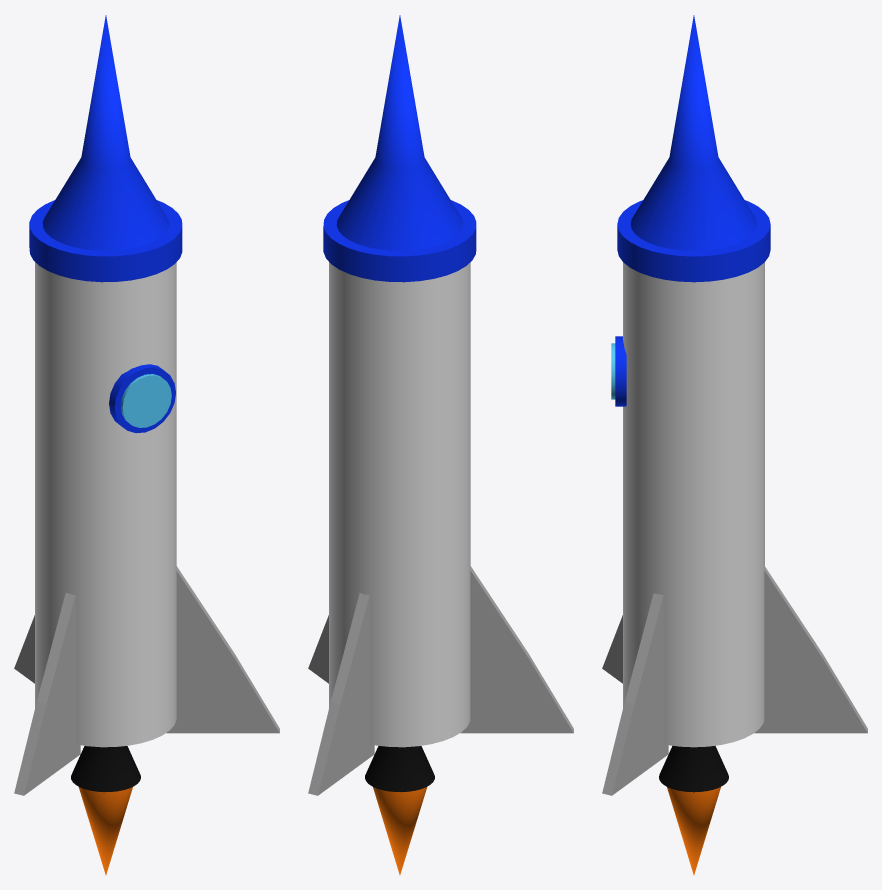
File: Rocket_06_TallNeedle.obj
The picture shows the model from 3 angles, left to right: view 1: azimuth 30°, elevation 25°; view 2: azimuth 150°, elevation 25°; view 3: azimuth 270°, elevation 25°; orthographic projection.
Parts seen in each view (by area): view 1: R06_Body, R06_Nose, R06_Fin_3, R06_Fin_2, R06_Collar, R06_Nozzle_1, R06_Flame_1, R06_Window_1, R06_WindowFrame_1, R06_Fin_1; view 2: R06_Body, R06_Nose, R06_Fin_2, R06_Fin_1, R06_Collar, R06_Nozzle_1, R06_Flame_1, R06_Fin_3; view 3: R06_Body, R06_Nose, R06_Fin_1, R06_Fin_3, R06_Collar, R06_Nozzle_1, R06_Flame_1, R06_WindowFrame_1, R06_Fin_2.
Part boxes in pixels (x1,y1,x2,y2): R06_Body: (35,262,176,747); R06_Nose: (42,15,169,250); R06_Fin_3: (166,566,279,733); R06_Fin_2: (14,592,80,795); R06_Collar: (29,200,182,282); R06_Nozzle_1: (71,746,140,792); R06_Flame_1: (78,787,132,875); R06_Window_1: (120,374,171,427); R06_WindowFrame_1: (109,364,175,433); R06_Fin_1: (14,615,34,683); R06_Body: (329,262,470,747); R06_Nose: (336,15,463,250); R06_Fin_2: (460,566,573,733); R06_Fin_1: (308,592,374,795); R06_Collar: (323,200,476,282); R06_Nozzle_1: (365,746,434,792); R06_Flame_1: (373,787,427,875); R06_Fin_3: (308,615,328,683); R06_Body: (623,262,764,747); R06_Nose: (630,15,757,250); R06_Fin_1: (754,567,867,733); R06_Fin_3: (602,593,668,795); R06_Collar: (617,200,770,282); R06_Nozzle_1: (659,745,728,792); R06_Flame_1: (667,787,720,875); R06_WindowFrame_1: (615,336,626,406); R06_Fin_2: (602,615,622,683).
Bounding box in the file's own units: 3.24 × 10.05 × 2.81.
